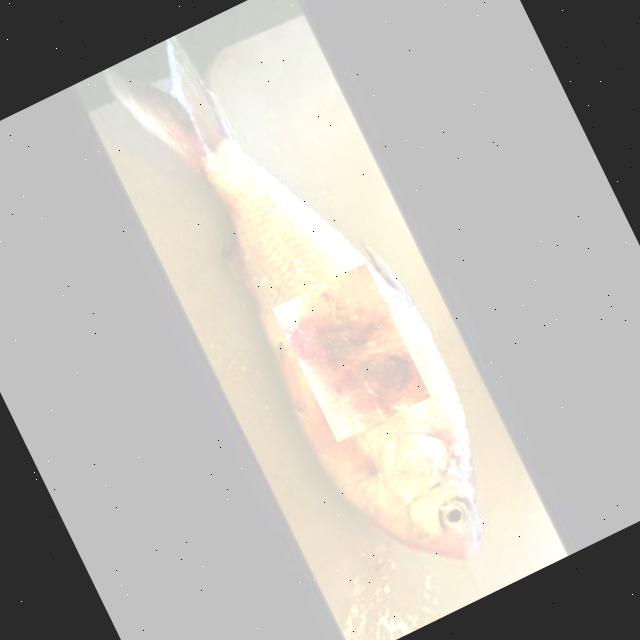Aeromonas Septicemia: (105, 36, 479, 558)
